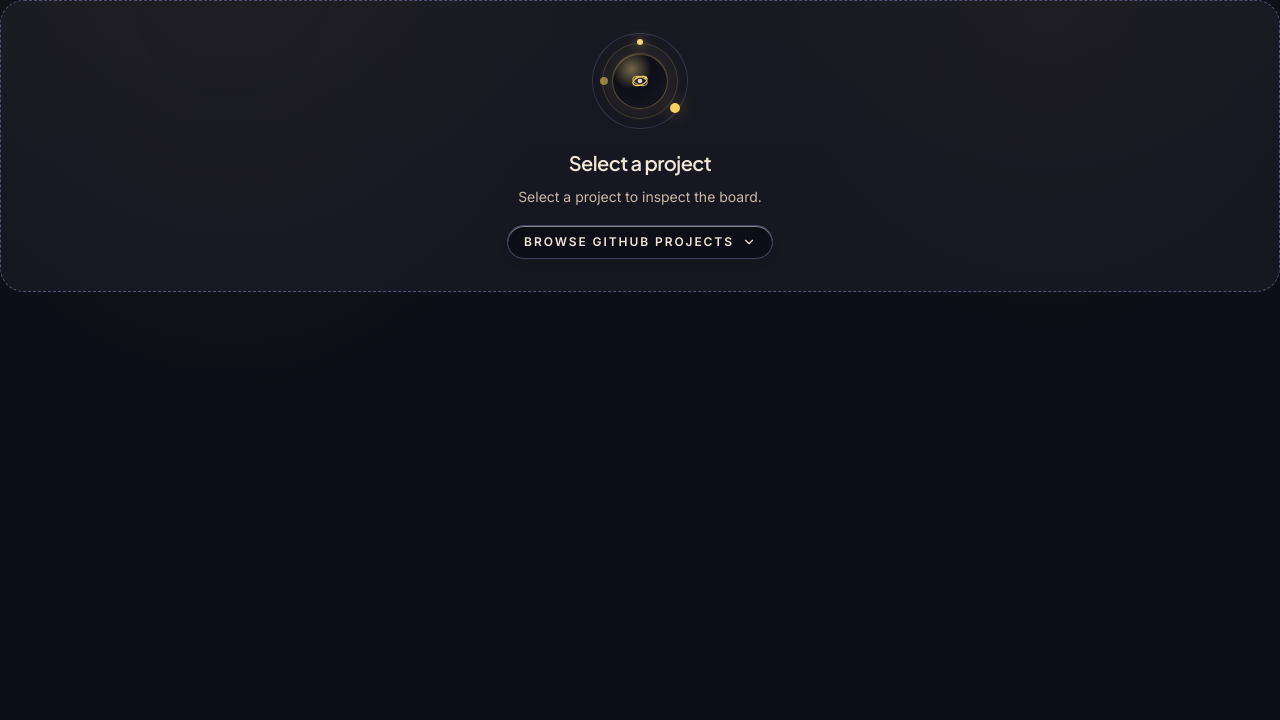
Test: ProjectSelectionEmptyState › closes the dropdown when Escape is pressed
This screenshot has width=1280, height=720.
Later steps or results of the test are not shown.
Click the button "Browse GitHub Projects": (640, 242) [507,225,773,259]
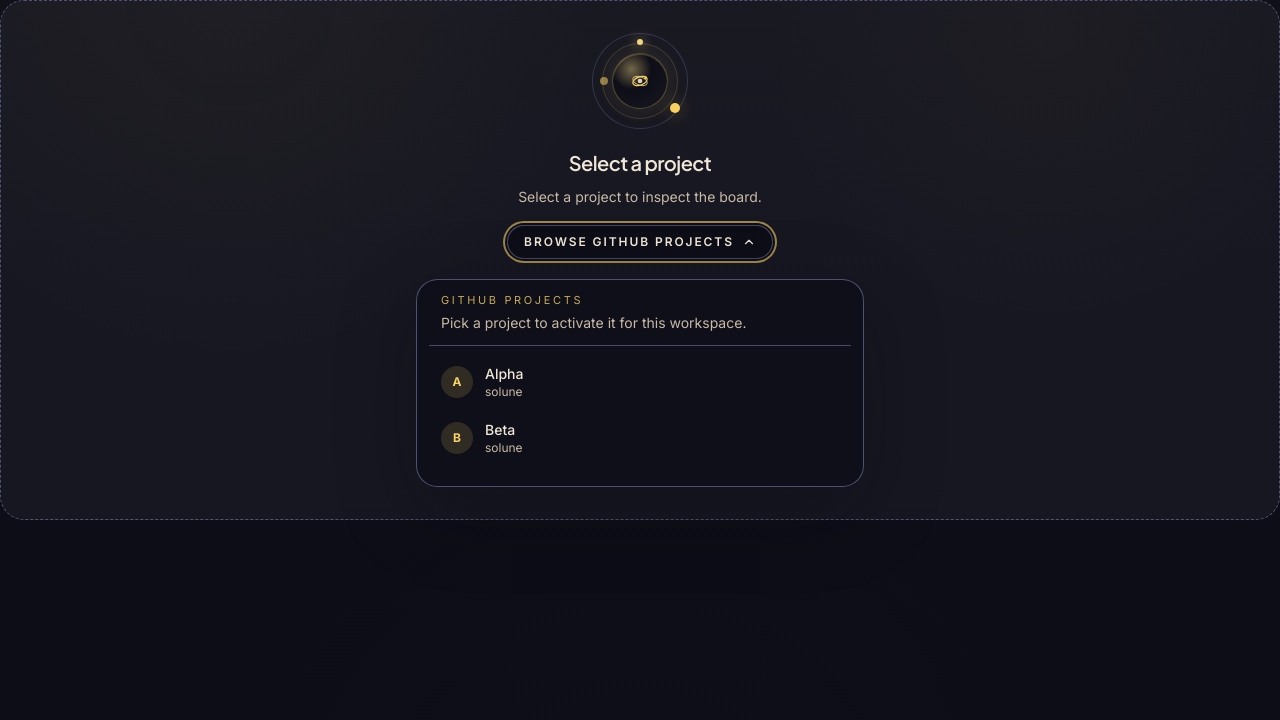
Result: the list named "github projects" is shown at [429,346,851,474]
